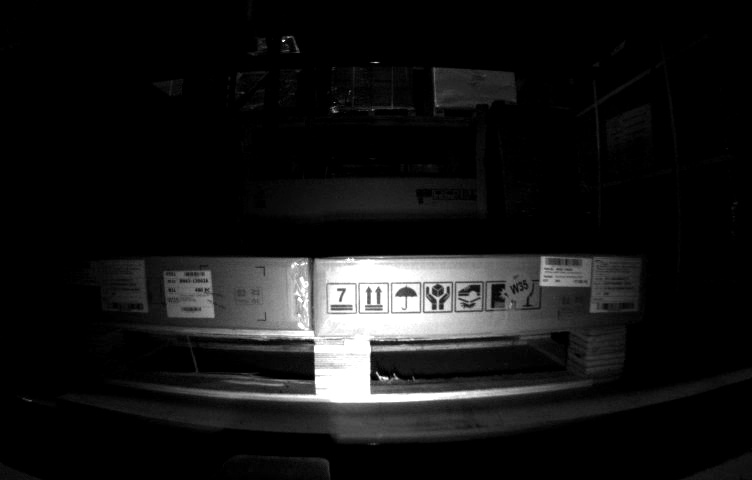True Barcode: (163, 270, 215, 318)
